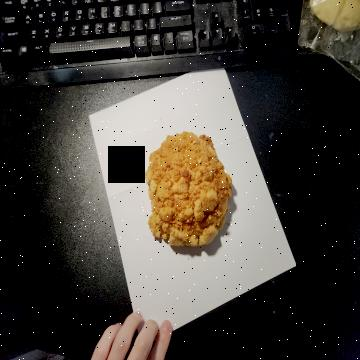soboru_bread: (147, 132, 230, 245)
